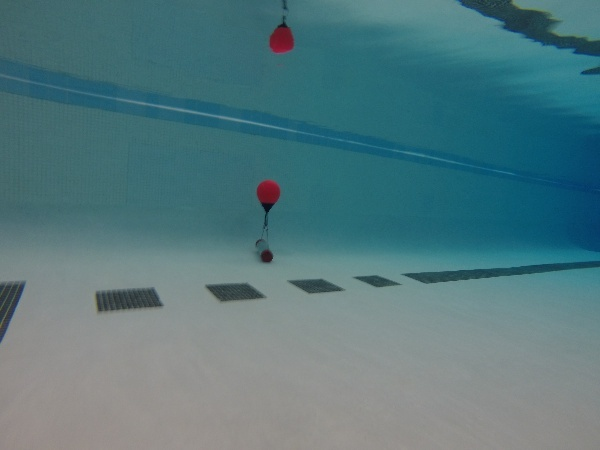buoy_red: (254, 179, 281, 213)
